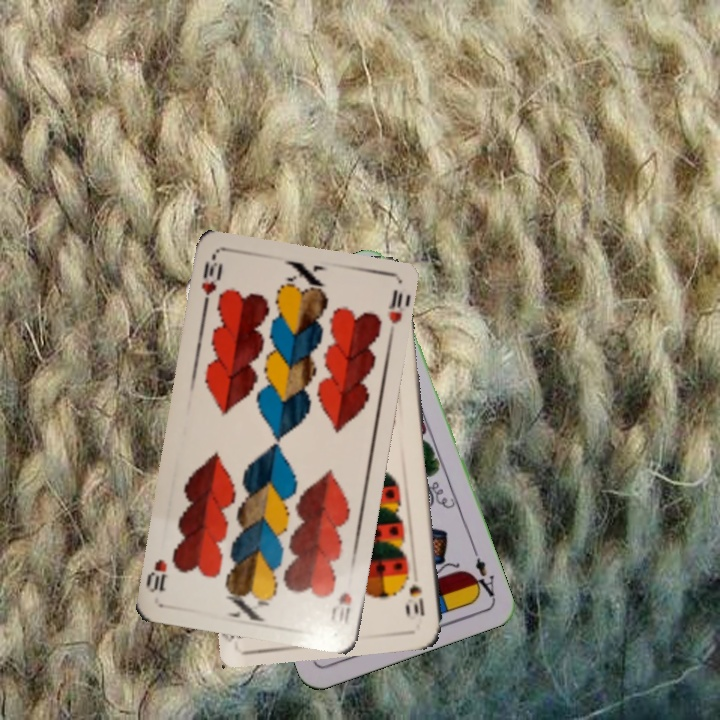EA: (467, 553, 498, 602)
H10: (197, 253, 226, 312), (327, 589, 354, 629)
S10: (405, 579, 427, 619)
